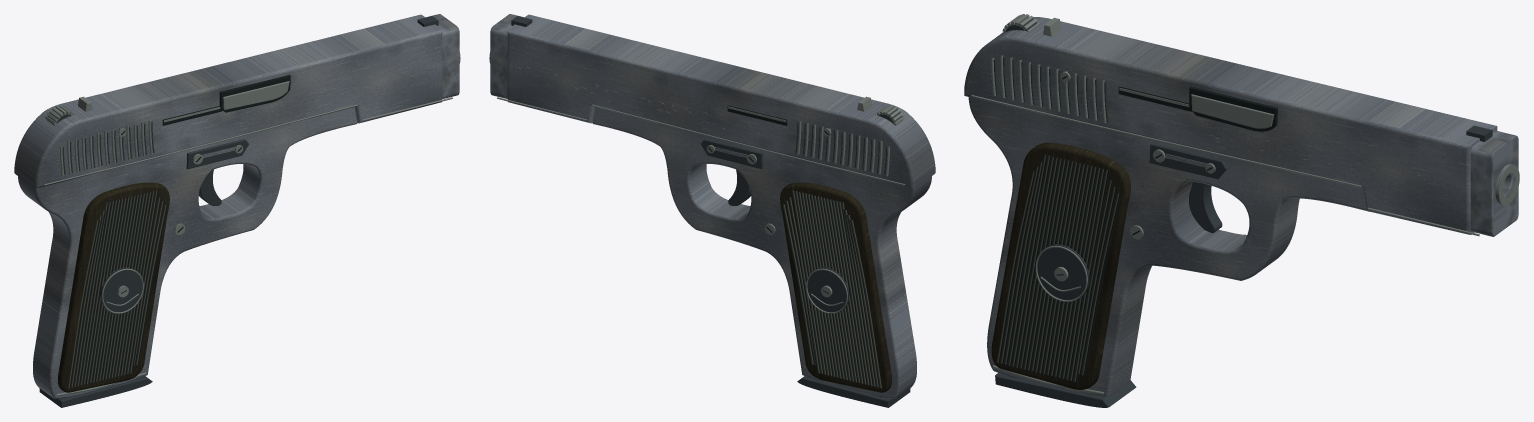
File: m1913-exterior.glb
3 renders of one model, left to right at view 1: azimuth 30°, elevation 25°; view 2: azimuth 150°, elevation 25°; view 3: azimuth 330°, elevation 25°, orthographic. The views are drawn at different scales.
Visible parts, largest first — view 1: Rounded slide, Frame and open trigger guard, M1913 — photographic exterior study, Ribbed dark grip panel, Front cap with open muzzle, Visible ejection port surface, Trigger with clearance inside guard; view 2: Rounded slide, Frame and open trigger guard, M1913 — photographic exterior study, Ribbed dark grip panel, Front cap with open muzzle, Trigger with clearance inside guard; view 3: Rounded slide, M1913 — photographic exterior study, Frame and open trigger guard, Ribbed dark grip panel, Front cap with open muzzle, Visible ejection port surface, Trigger with clearance inside guard.
Boxes of the visible parts, x1,y1,x2,y2 form: Rounded slide: [14, 14, 442, 188]; Frame and open trigger guard: [18, 107, 357, 399]; M1913 — photographic exterior study: [39, 16, 460, 407]; Ribbed dark grip panel: [58, 182, 169, 392]; Front cap with open muzzle: [426, 14, 459, 98]; Visible ejection port surface: [223, 81, 289, 110]; Trigger with clearance inside guard: [198, 169, 221, 205]; Rounded slide: [507, 14, 935, 188]; Frame and open trigger guard: [592, 107, 931, 399]; M1913 — photographic exterior study: [489, 16, 910, 407]; Ribbed dark grip panel: [780, 182, 891, 392]; Front cap with open muzzle: [490, 14, 523, 98]; Trigger with clearance inside guard: [728, 169, 751, 205]; Rounded slide: [964, 17, 1497, 234]; M1913 — photographic exterior study: [971, 14, 1512, 407]; Frame and open trigger guard: [968, 97, 1369, 397]; Ribbed dark grip panel: [991, 142, 1130, 389]; Front cap with open muzzle: [1470, 130, 1518, 236]; Visible ejection port surface: [1191, 94, 1274, 128]; Trigger with clearance inside guard: [1189, 181, 1222, 233].
Bounding box in the file's own units: 6.6 × 4.31 × 0.874.
Materials: 7 (4 with a texture image).
